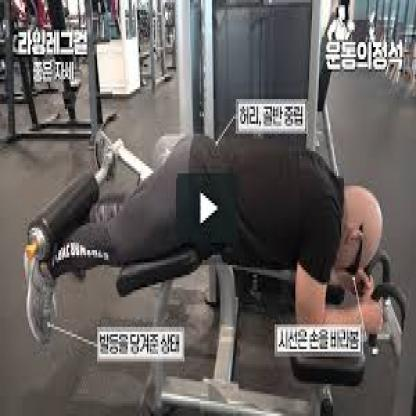reg curl machine: (20, 112, 412, 416)
